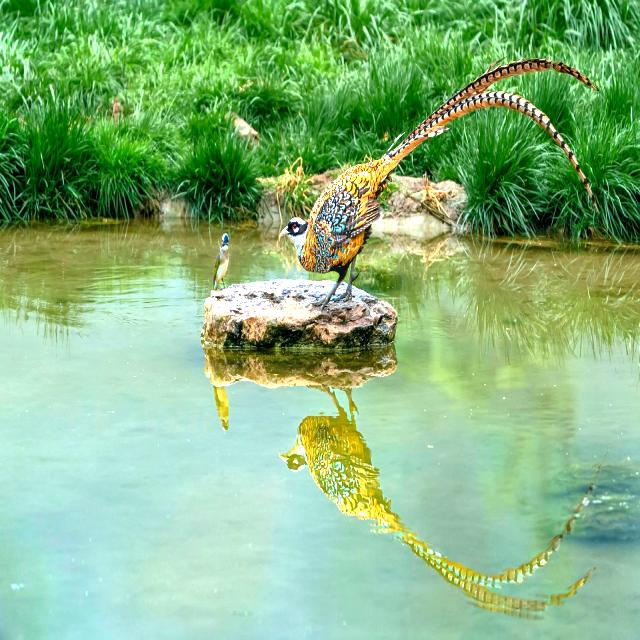Reeves-s Pheasant: (370, 447, 609, 620), (382, 55, 600, 215)
